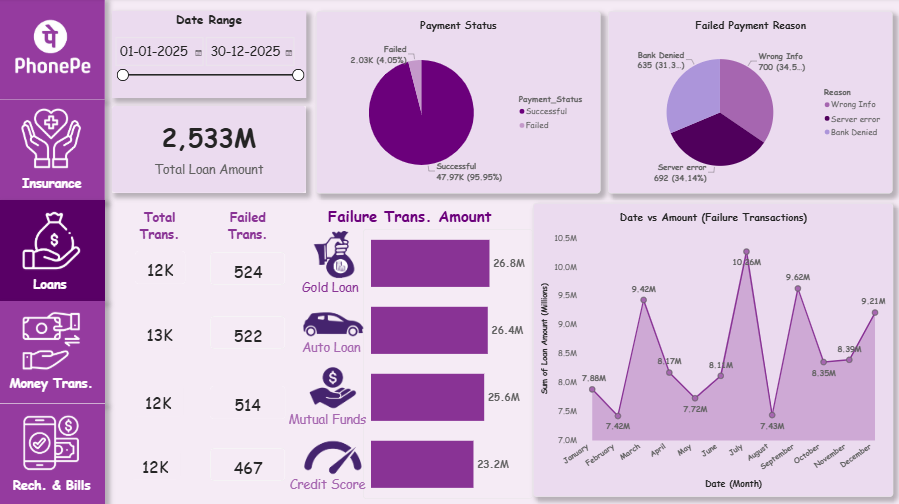

The dashboard page shown, as its layout file describes it:
{"tool":"powerbi","page":{"name":"Loans","canvas":[1920,1080],"ordinal":2},"visuals":[{"type":"group","id":"g1","title":"Group 1","box":[0,0,227.5,216],"z":0},{"type":"shape","box":[0,0,227.5,216],"z":0,"group":"g1"},{"type":"cardVisual","fields":{"Data":["Count(Loans.Transaction_ID)"]},"box":[291.6,537.9,107.5,70],"z":0,"group":"g7"},{"type":"cardVisual","fields":{"Data":["Count(Loans.Transaction_ID)"]},"box":[450,541,160,70.1],"z":0,"group":"g8"},{"type":"group","id":"g2","title":"Group 2","box":[0,216,227.5,216],"z":1000},{"type":"shape","box":[0,216,227.5,216],"z":1000,"group":"g2"},{"type":"cardVisual","fields":{"Data":["Count(Loans.Transaction_ID)"]},"box":[294.1,675.4,100,70],"z":1000,"group":"g7"},{"type":"cardVisual","fields":{"Data":["Count(Loans.Transaction_ID)"]},"box":[450,677,160,70.1],"z":1000,"group":"g8"},{"type":"group","id":"g3","title":"Group 3","box":[0,430,227.5,215],"z":2000},{"type":"shape","box":[0,430,227.5,215],"z":2000,"group":"g3"},{"type":"cardVisual","fields":{"Data":["Count(Loans.Transaction_ID)"]},"box":[286.6,820.4,107.5,70],"z":2000,"group":"g7"},{"type":"cardVisual","fields":{"Data":["Count(Loans.Transaction_ID)"]},"box":[450,825.7,160,70.1],"z":2000,"group":"g8"},{"type":"shape","box":[0,645,227.5,217.5],"z":3000,"group":"g4"},{"type":"group","id":"g4","title":"Group 4","box":[0,645,227.5,217.5],"z":3000},{"type":"cardVisual","fields":{"Data":["Count(Loans.Transaction_ID)"]},"box":[450,957.4,160,70.1],"z":3000,"group":"g8"},{"type":"cardVisual","fields":{"Data":["Count(Loans.Transaction_ID)"]},"box":[281.6,957.9,107.5,65],"z":3000,"group":"g7"},{"type":"textbox","box":[257.2,446.5,172.2,89.3],"z":4000,"group":"g7"},{"type":"textbox","box":[450,447.5,160,89.2],"z":4000,"group":"g8"},{"type":"group","id":"g5","title":"Group 5","box":[0,862.5,227.5,215],"z":4000},{"type":"shape","box":[0,862.5,227.5,215],"z":4000,"group":"g5"},{"type":"image","box":[22.5,27.5,185,160],"z":5000,"group":"g1"},{"type":"actionButton","box":[0,215,227.5,215],"z":5000},{"type":"image","box":[32.5,222.5,162.5,150],"z":6000,"group":"g2"},{"type":"actionButton","box":[0,645,227.5,215],"z":6000},{"type":"image","box":[37.5,447.5,155,135],"z":7000,"group":"g3"},{"type":"actionButton","box":[0,860,227.5,215],"z":7000},{"type":"actionButton","box":[0,0,227.5,215],"z":8000},{"type":"image","box":[35,662.5,157.5,135],"z":8000,"group":"g4"},{"type":"slicer","title":"Date Range","fields":{"Values":["All_Transactions.Date"]},"box":[242.5,27.5,412.5,185],"z":9000},{"type":"textbox","box":[694.3,441.5,365,45],"z":9000,"group":"g6"},{"type":"image","box":[32.5,877.5,162.5,135],"z":9000,"group":"g5"},{"type":"cardVisual","fields":{"Data":["Sum(Loans.Loan_Amount)"]},"box":[242.5,230,412.4,185],"z":10000},{"type":"textbox","box":[37.5,372.5,152.5,47.5],"z":10000,"group":"g2"},{"type":"pieChart","title":"Payment Status","fields":{"Category":["Loans.Payment_Status"],"Y":["CountNonNull(Loans.Loan_Type)"]},"box":[675,27.5,605,387.5],"z":11000},{"type":"textbox","box":[35,590,152.5,47.5],"z":11000,"group":"g3"},{"type":"pieChart","title":"Failed Payment Reason","fields":{"Category":["Loans.Reason"],"Y":["CountNonNull(Loans.Loan_Amount)"]},"box":[1297.5,27.5,605,387.5],"z":12000},{"type":"textbox","box":[5,800,217.5,47.5],"z":12000,"group":"g4"},{"type":"lineChart","title":"Date vs Amount (Failure Transactions)","fields":{"Category":["Loans.Date.Variation.Date Hierarchy.Month"],"Y":["Sum(Loans.Loan_Amount)"]},"box":[1136.4,435.9,766,624.9],"z":13000},{"type":"textbox","box":[15,1015,197.5,45],"z":13000,"group":"g5"},{"type":"group","id":"g6","title":"Group 6","box":[611.1,441.5,526.3,623.7],"z":14000},{"type":"group","id":"g7","title":"Group 7","box":[257.2,446.5,172.2,576.4],"z":15000},{"type":"clusteredBarChart","title":"Date vs Amount (Failure Transactions)","fields":{"Category":["Loans.Loan_Type"],"Y":["Sum(Loans.Loan_Amount)"]},"box":[776,491.1,361.4,574],"z":15000,"group":"g6"},{"type":"group","id":"g8","title":"Group 8","box":[450,447.5,160,580],"z":16000},{"type":"image","box":[633.6,495.4,161.6,99.9],"z":16000,"group":"g6"},{"type":"image","box":[633.6,642.1,161.6,99.9],"z":17000,"group":"g6"},{"type":"image","box":[640,778.2,144.6,99.9],"z":18000,"group":"g6"},{"type":"image","box":[644.2,927,136.1,99.9],"z":19000,"group":"g6"},{"type":"textbox","box":[641.8,594,132.5,45],"z":20000,"group":"g6"},{"type":"textbox","box":[635.9,722.9,145,45],"z":21000,"group":"g6"},{"type":"textbox","box":[611.1,875.4,180,45],"z":22000,"group":"g6"},{"type":"textbox","box":[614.9,1012.9,172.5,45],"z":23000,"group":"g6"}]}

Visuals, with their boxes in screenshot pixels (x1, y1, x2, y2), scaled from the page's 1920x1080 canvas onto the 899x504 screenshot:
"Group 1" group: [left=0, top=0, right=107, bottom=101]
shape: [left=0, top=0, right=107, bottom=101]
cardVisual - Count(Loans.Transaction_ID): [left=137, top=251, right=187, bottom=284]
cardVisual - Count(Loans.Transaction_ID): [left=211, top=252, right=286, bottom=285]
"Group 2" group: [left=0, top=101, right=107, bottom=202]
shape: [left=0, top=101, right=107, bottom=202]
cardVisual - Count(Loans.Transaction_ID): [left=138, top=315, right=185, bottom=348]
cardVisual - Count(Loans.Transaction_ID): [left=211, top=316, right=286, bottom=349]
"Group 3" group: [left=0, top=201, right=107, bottom=301]
shape: [left=0, top=201, right=107, bottom=301]
cardVisual - Count(Loans.Transaction_ID): [left=134, top=383, right=185, bottom=416]
cardVisual - Count(Loans.Transaction_ID): [left=211, top=385, right=286, bottom=418]
shape: [left=0, top=301, right=107, bottom=402]
"Group 4" group: [left=0, top=301, right=107, bottom=402]
cardVisual - Count(Loans.Transaction_ID): [left=211, top=447, right=286, bottom=480]
cardVisual - Count(Loans.Transaction_ID): [left=132, top=447, right=182, bottom=477]
textbox: [left=120, top=208, right=201, bottom=250]
textbox: [left=211, top=209, right=286, bottom=250]
"Group 5" group: [left=0, top=402, right=107, bottom=503]
shape: [left=0, top=402, right=107, bottom=503]
image: [left=11, top=13, right=97, bottom=88]
actionButton: [left=0, top=100, right=107, bottom=201]
image: [left=15, top=104, right=91, bottom=174]
actionButton: [left=0, top=301, right=107, bottom=401]
image: [left=18, top=209, right=90, bottom=272]
actionButton: [left=0, top=401, right=107, bottom=502]
actionButton: [left=0, top=0, right=107, bottom=100]
image: [left=16, top=309, right=90, bottom=372]
"Date Range" slicer: [left=114, top=13, right=307, bottom=99]
textbox: [left=325, top=206, right=496, bottom=227]
image: [left=15, top=410, right=91, bottom=472]
cardVisual - Sum(Loans.Loan_Amount): [left=114, top=107, right=307, bottom=194]
textbox: [left=18, top=174, right=89, bottom=196]
"Payment Status" pieChart: [left=316, top=13, right=599, bottom=194]
textbox: [left=16, top=275, right=88, bottom=298]
"Failed Payment Reason" pieChart: [left=608, top=13, right=891, bottom=194]
textbox: [left=2, top=373, right=104, bottom=396]
"Date vs Amount (Failure Transactions)" lineChart: [left=532, top=203, right=891, bottom=495]
textbox: [left=7, top=474, right=99, bottom=495]
"Group 6" group: [left=286, top=206, right=533, bottom=497]
"Group 7" group: [left=120, top=208, right=201, bottom=477]
"Date vs Amount (Failure Transactions)" clusteredBarChart: [left=363, top=229, right=533, bottom=497]
"Group 8" group: [left=211, top=209, right=286, bottom=480]
image: [left=297, top=231, right=372, bottom=278]
image: [left=297, top=300, right=372, bottom=346]
image: [left=300, top=363, right=367, bottom=410]
image: [left=302, top=433, right=365, bottom=479]
textbox: [left=301, top=277, right=363, bottom=298]
textbox: [left=298, top=337, right=366, bottom=358]
textbox: [left=286, top=409, right=370, bottom=430]
textbox: [left=288, top=473, right=369, bottom=494]
